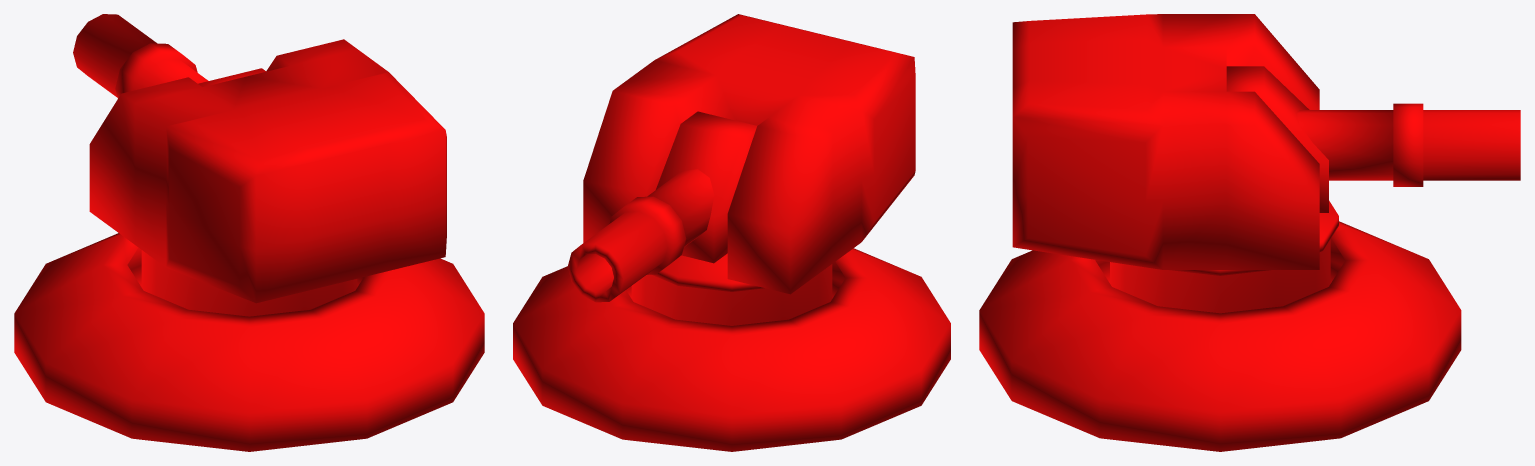
The model's file is 1Turret.fbx.
3 views of the same model, side by side, from view 1: azimuth 30°, elevation 25°; view 2: azimuth 150°, elevation 25°; view 3: azimuth 270°, elevation 25° (orthographic). The views are drawn at different scales.
Visible parts, largest first — view 1: 1turret3, 1turret1, 1turret5, 1turret2; view 2: 1turret1, 1turret3, 1turret5, 1turret2, 1turret4; view 3: 1turret1, 1turret3, 1turret5, 1turret2, 1turret4.
Boxes of the visible parts, left/top/right/bottom form: 1turret3: left=89, top=39, right=446, bottom=303; 1turret1: left=14, top=233, right=484, bottom=451; 1turret5: left=73, top=14, right=208, bottom=98; 1turret2: left=141, top=250, right=357, bottom=316; 1turret1: left=513, top=248, right=950, bottom=451; 1turret3: left=583, top=14, right=915, bottom=294; 1turret5: left=567, top=169, right=714, bottom=302; 1turret2: left=631, top=253, right=832, bottom=325; 1turret4: left=656, top=111, right=756, bottom=263; 1turret1: left=979, top=221, right=1461, bottom=451; 1turret3: left=1012, top=14, right=1319, bottom=269; 1turret5: left=1295, top=103, right=1520, bottom=186; 1turret2: left=1110, top=200, right=1338, bottom=313; 1turret4: left=1226, top=66, right=1328, bottom=212.
Size of the model in its own units: 18.23 by 12.03 by 20.47.
